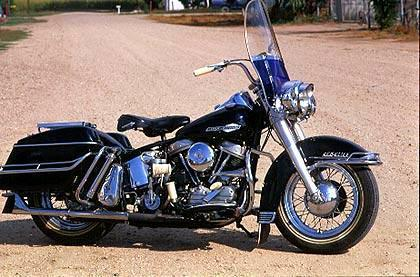motorcycle: (1, 1, 388, 262)
